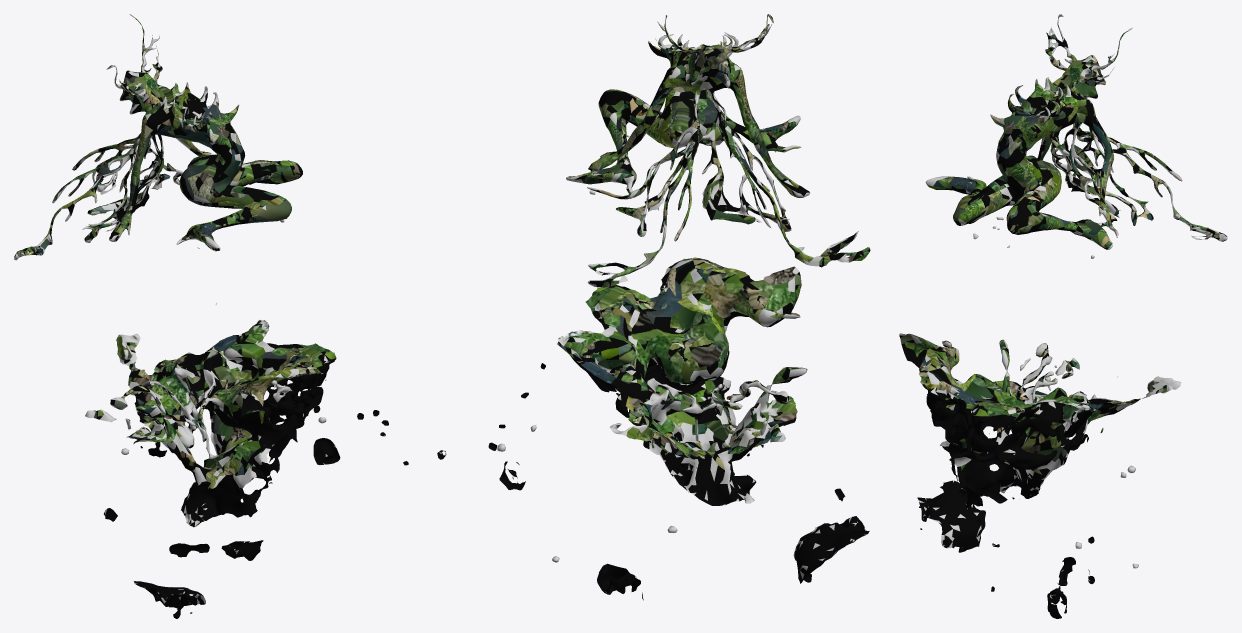
The model's file is klemm_lowpoly.obj.
The picture shows the model from 3 angles, left to right: view 1: azimuth 30°, elevation 25°; view 2: azimuth 150°, elevation 25°; view 3: azimuth 270°, elevation 25°; orthographic projection. The views are drawn at different scales.
Bounding box in the file's own units: 2.1 × 3.03 × 1.64.
